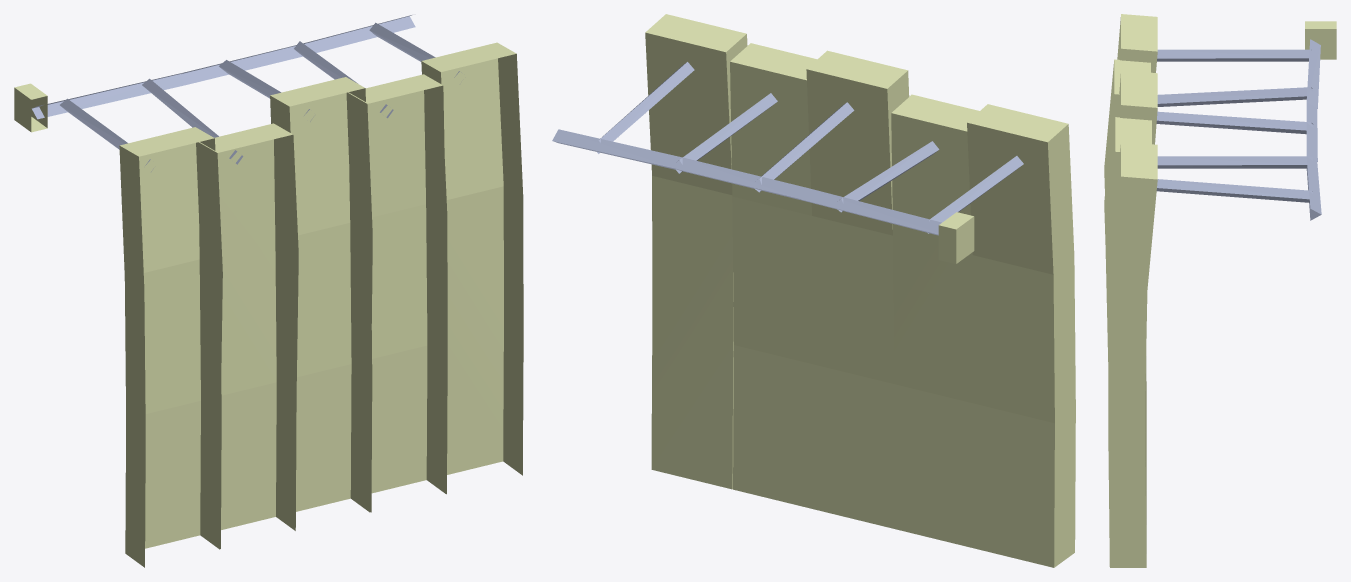
3 renders of one model, left to right at view 1: azimuth 30°, elevation 25°; view 2: azimuth 150°, elevation 25°; view 3: azimuth 270°, elevation 25°, orthographic. The views are drawn at different scales.
Visible parts, largest first — view 1: Object48; view 2: Object48; view 3: Object48.
Boxes of the visible parts, box(x1,y1,x2,y2) form: Object48: box(14, 15, 523, 567); Object48: box(552, 14, 1075, 567); Object48: box(1104, 14, 1336, 567).
Bounding box in the file's own units: 38665 × 40079 × 21458.
